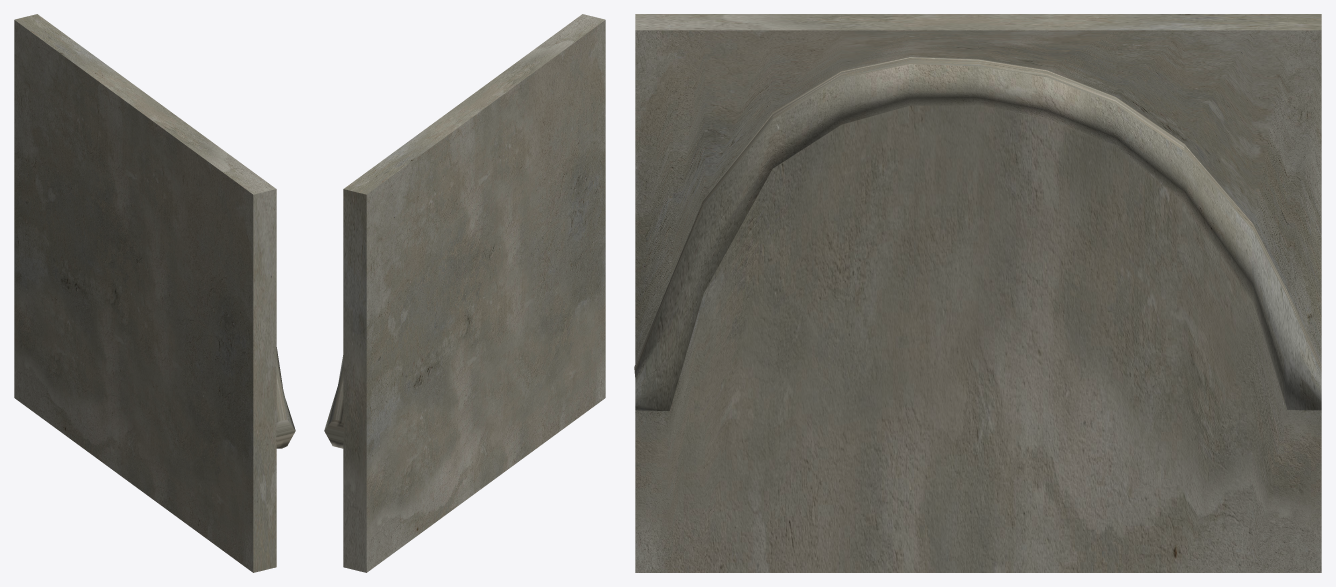
The model's file is Mesh_Static_Pared05_0.fbx.
The picture shows the model from 3 angles, left to right: view 1: azimuth 30°, elevation 25°; view 2: azimuth 150°, elevation 25°; view 3: azimuth 270°, elevation 25°; orthographic projection. The views are drawn at different scales.
Visible parts, largest first — view 1: cuadroesquina.007; view 2: cuadroesquina.007; view 3: cuadroesquina.007.
Part boxes in pixels (bbox=[...]): cuadroesquina.007: bbox=[14, 14, 295, 572]; cuadroesquina.007: bbox=[324, 14, 605, 572]; cuadroesquina.007: bbox=[634, 14, 1321, 572].
Bounding box in the file's own units: 68.11 × 580 × 665.
